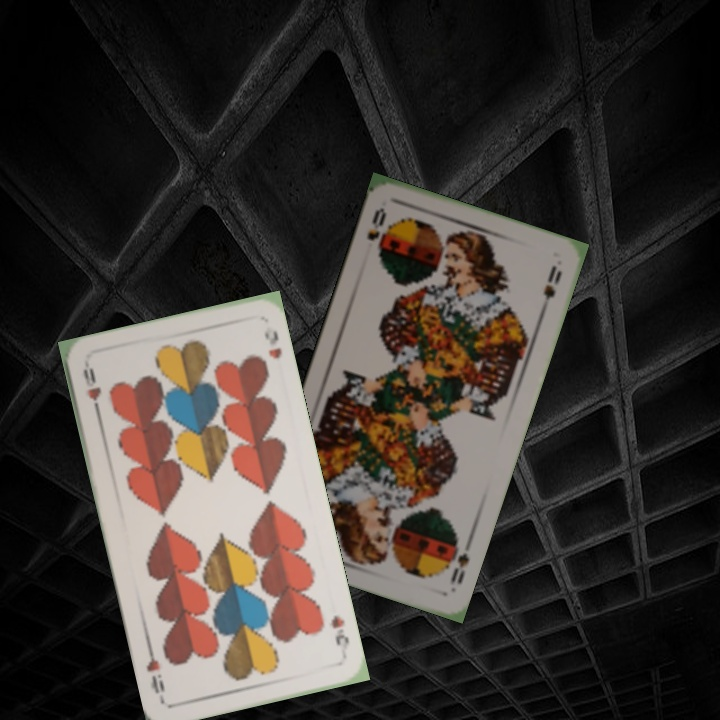H9: (79, 363, 104, 419), (327, 611, 352, 659)
SO: (443, 533, 475, 594), (363, 203, 389, 260)
